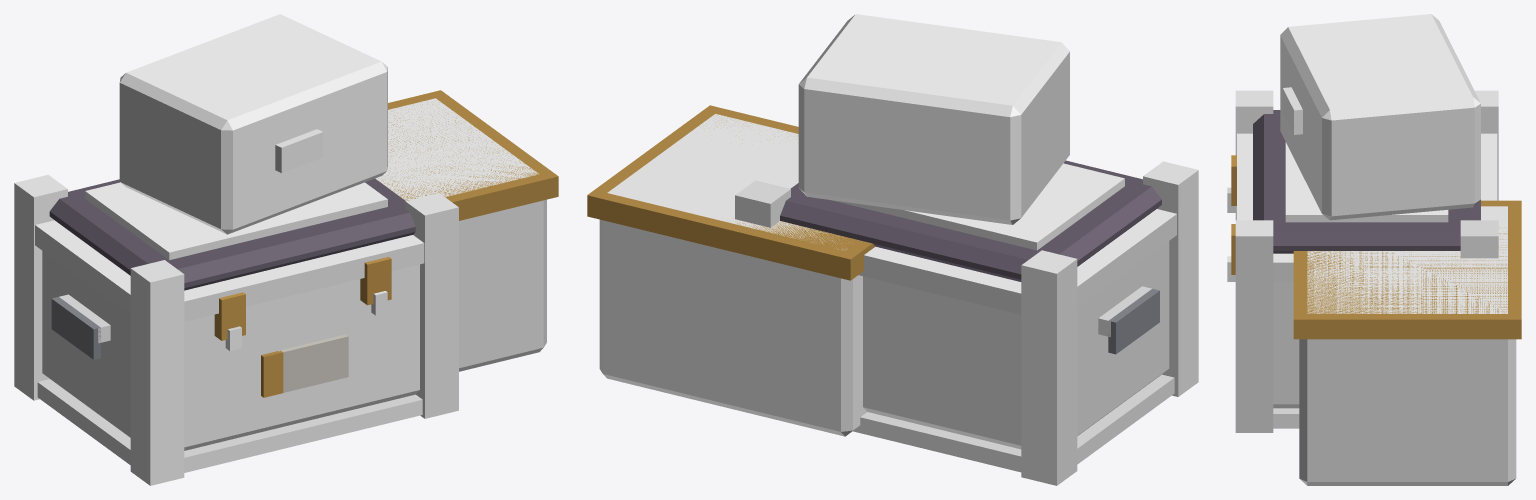
Rendered from Crate_Stack.fbx.
The picture shows the model from 3 angles, left to right: view 1: azimuth 30°, elevation 25°; view 2: azimuth 150°, elevation 25°; view 3: azimuth 270°, elevation 25°; orthographic projection. The views are drawn at different scales.
Parts seen in each view (by area): view 1: Crate_Stack; view 2: Crate_Stack; view 3: Crate_Stack.
Part boxes in pixels (box(x1,y1,x2,y2)): Crate_Stack: box(14, 14, 558, 485); Crate_Stack: box(587, 14, 1198, 485); Crate_Stack: box(1227, 14, 1521, 485).
Bounding box in the file's own units: 1.84 × 1.26 × 1.08.
